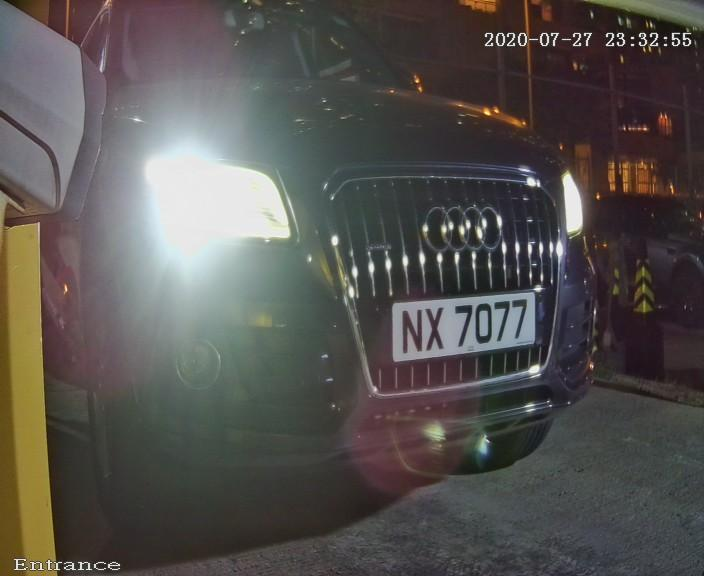privatecar: (56, 22, 614, 510)
